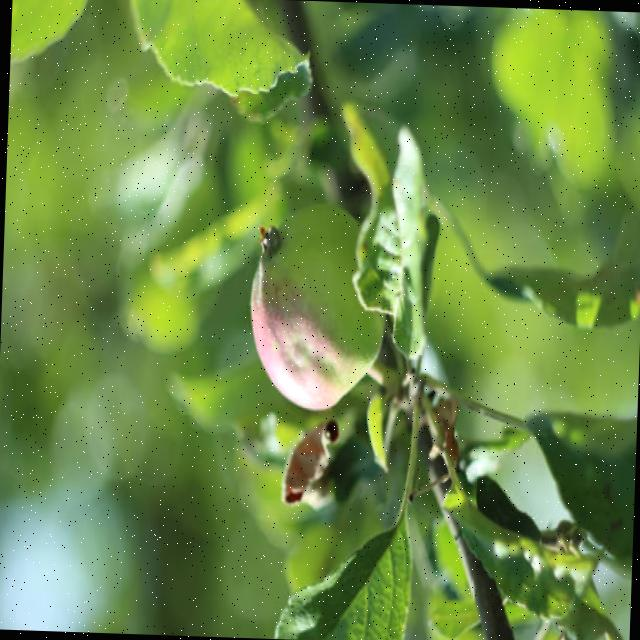Unripe: (243, 197, 389, 414)
